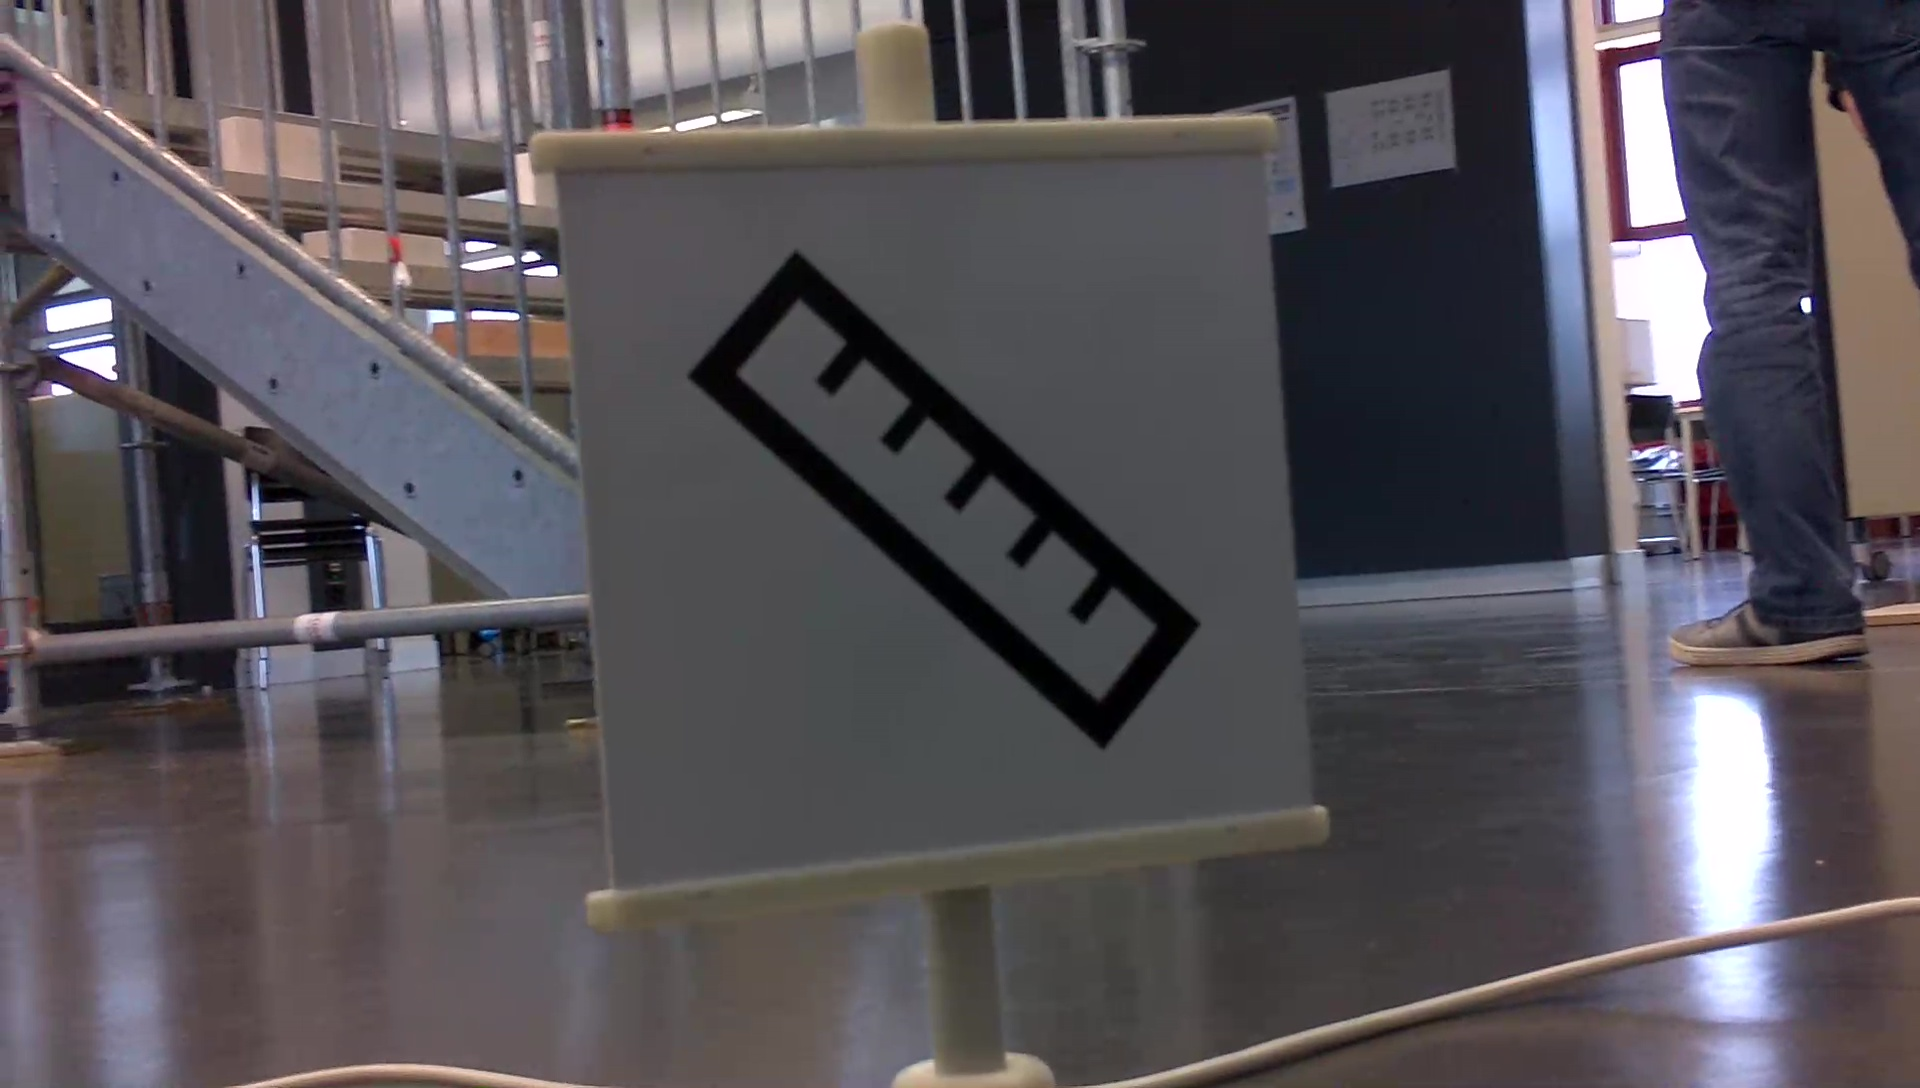ruler: (699, 233, 1225, 745)
